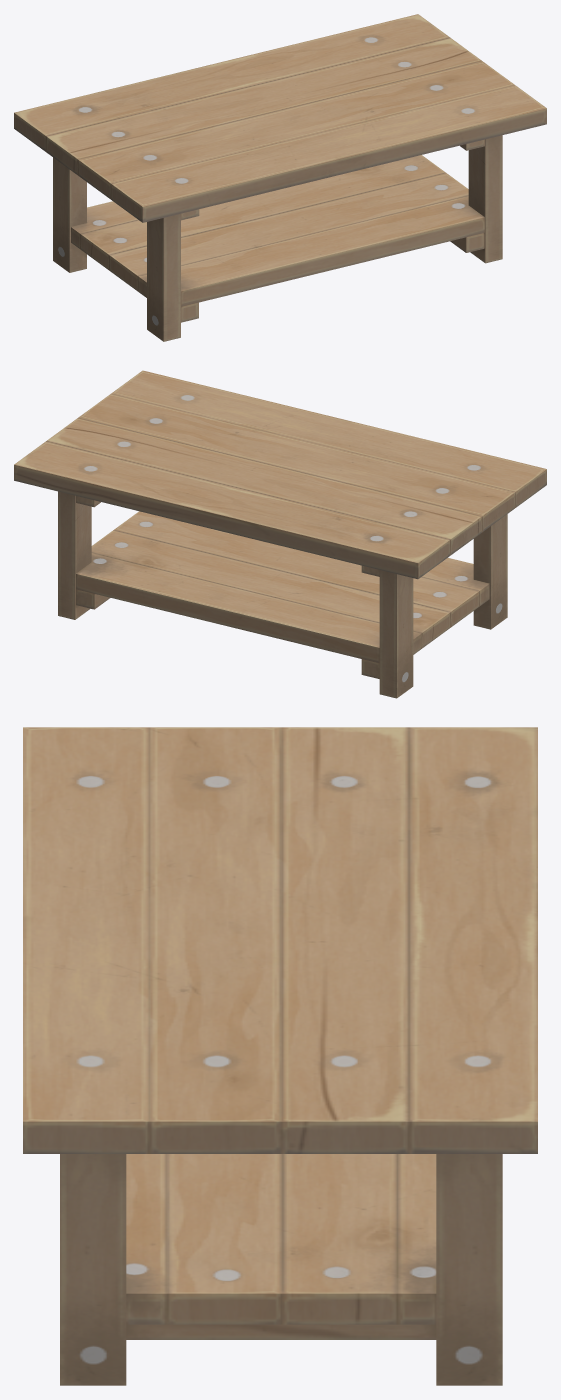
Rendered from P_Table_006_S1_M01.obj.
The picture shows the model from 3 angles, top to bottom: view 1: azimuth 30°, elevation 25°; view 2: azimuth 150°, elevation 25°; view 3: azimuth 270°, elevation 25°; orthographic projection. The views are drawn at different scales.
Bounding box in the file's own units: 1.7 × 0.5993 × 0.9382.
1 material, 1 textured.
